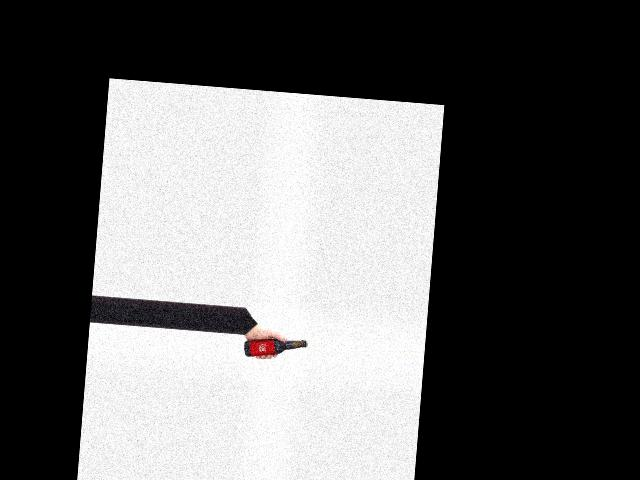beer: (243, 334, 308, 362)
